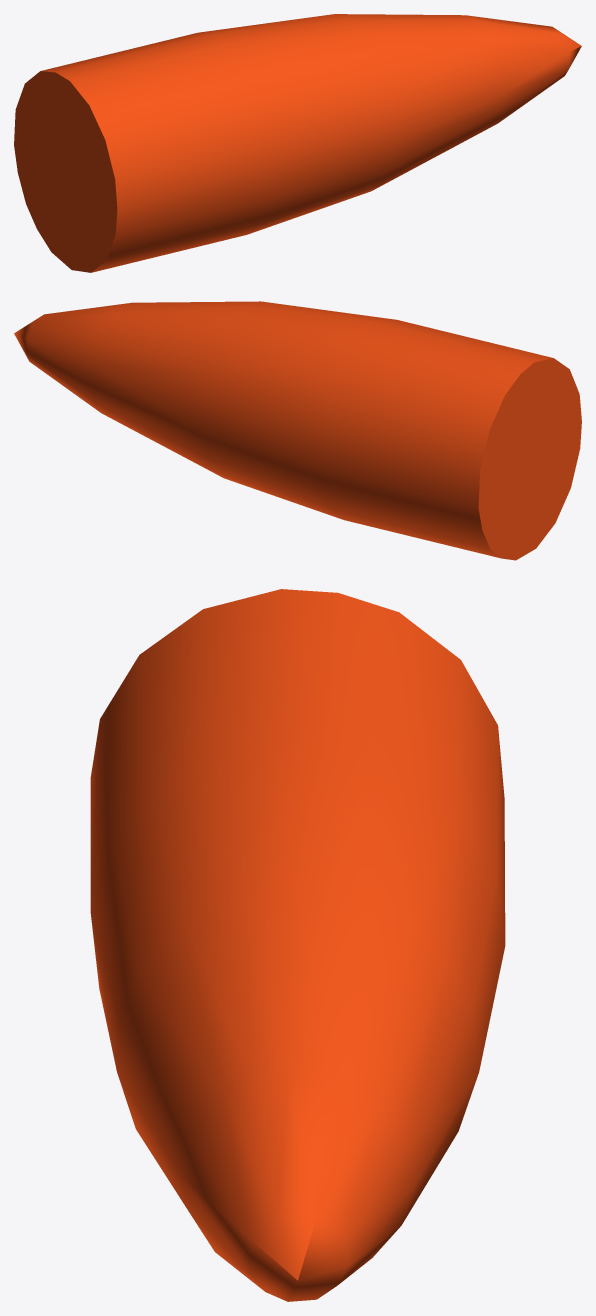
File: bala_ardente.obj
The picture shows the model from 3 angles, top to bottom: view 1: azimuth 30°, elevation 25°; view 2: azimuth 150°, elevation 25°; view 3: azimuth 270°, elevation 25°; orthographic projection. The views are drawn at different scales.
Bounding box in the file's own units: 0.0656 × 0.0228 × 0.0228.
